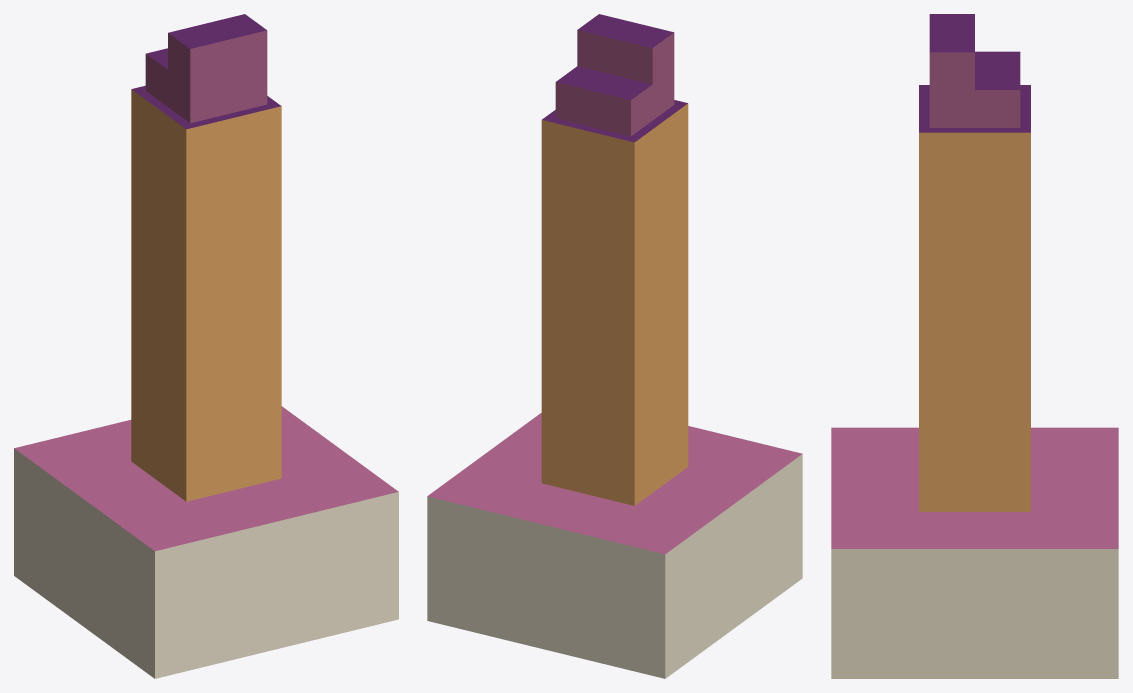
Rendered from EstatuaJusticia.fbx.
The picture shows the model from 3 angles, left to right: view 1: azimuth 30°, elevation 25°; view 2: azimuth 150°, elevation 25°; view 3: azimuth 270°, elevation 25°; orthographic projection. The views are drawn at different scales.
Visible parts, largest first — view 1: Cube.224; view 2: Cube.224; view 3: Cube.224.
Part boxes in pixels (left/top/right/bottom): Cube.224: left=14, top=14, right=398, bottom=678; Cube.224: left=427, top=14, right=802, bottom=678; Cube.224: left=831, top=14, right=1118, bottom=678.
Size of the model in its own units: 200 by 450 by 200.
